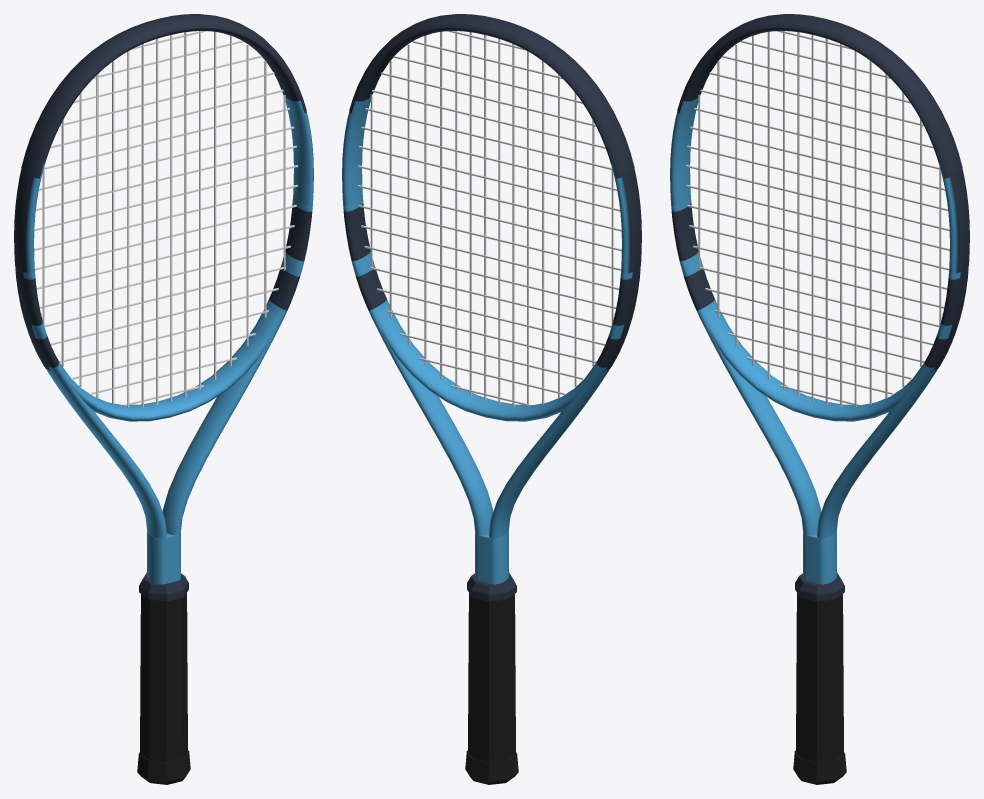
Rendered from babolat-pure-drive-junior-26-2025.glb.
3 views of the same model, side by side, from view 1: azimuth 30°, elevation 25°; view 2: azimuth 150°, elevation 25°; view 3: azimuth 330°, elevation 25° (orthographic).
Visible parts, largest first — view 1: frame, strings_mains, strings_crosses, grip, bumper, grommets, butt_cap, collar; view 2: frame, strings_mains, strings_crosses, grip, bumper, grommets, butt_cap, collar; view 3: frame, strings_mains, strings_crosses, grip, bumper, grommets, butt_cap, collar.
Part boxes in pixels (<box>): frame: <box>14,28,313,584</box>; strings_mains: <box>42,31,285,407</box>; strings_crosses: <box>34,31,297,406</box>; grip: <box>140,593,187,762</box>; bumper: <box>21,14,306,178</box>; grommets: <box>15,170,50,370</box>; butt_cap: <box>137,750,190,784</box>; collar: <box>139,572,188,601</box>; frame: <box>342,28,641,584</box>; strings_mains: <box>370,31,613,406</box>; strings_crosses: <box>357,31,621,406</box>; grip: <box>468,593,515,762</box>; bumper: <box>349,14,634,178</box>; grommets: <box>605,170,640,370</box>; butt_cap: <box>465,750,518,784</box>; collar: <box>467,572,516,601</box>; frame: <box>670,28,969,584</box>; strings_mains: <box>698,31,941,407</box>; strings_crosses: <box>686,31,949,406</box>; grip: <box>796,593,843,762</box>; bumper: <box>677,14,962,178</box>; grommets: <box>933,170,968,370</box>; butt_cap: <box>793,750,846,784</box>; collar: <box>795,572,844,601</box>.
Size of the model in its own units: 0.2678 by 0.6607 by 0.0396.
